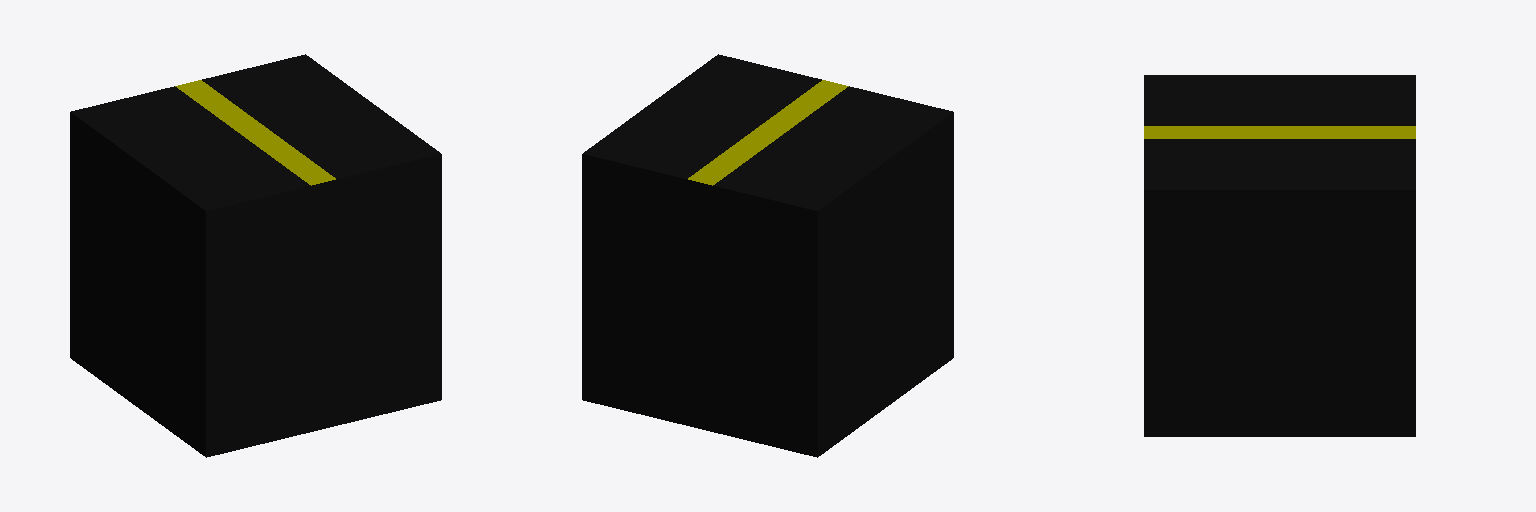
Rendered from StreeLineCube.obj.
3 views of the same model, side by side, from view 1: azimuth 30°, elevation 25°; view 2: azimuth 150°, elevation 25°; view 3: azimuth 270°, elevation 25° (orthographic).
Parts seen in each view (by area): view 1: Cube; view 2: Cube; view 3: Cube.
Boxes of the visible parts, x1,y1,x2,y2 form: Cube: [70, 54, 441, 457]; Cube: [582, 54, 953, 457]; Cube: [1144, 75, 1415, 436].
Size of the model in its own units: 2 by 2 by 2.